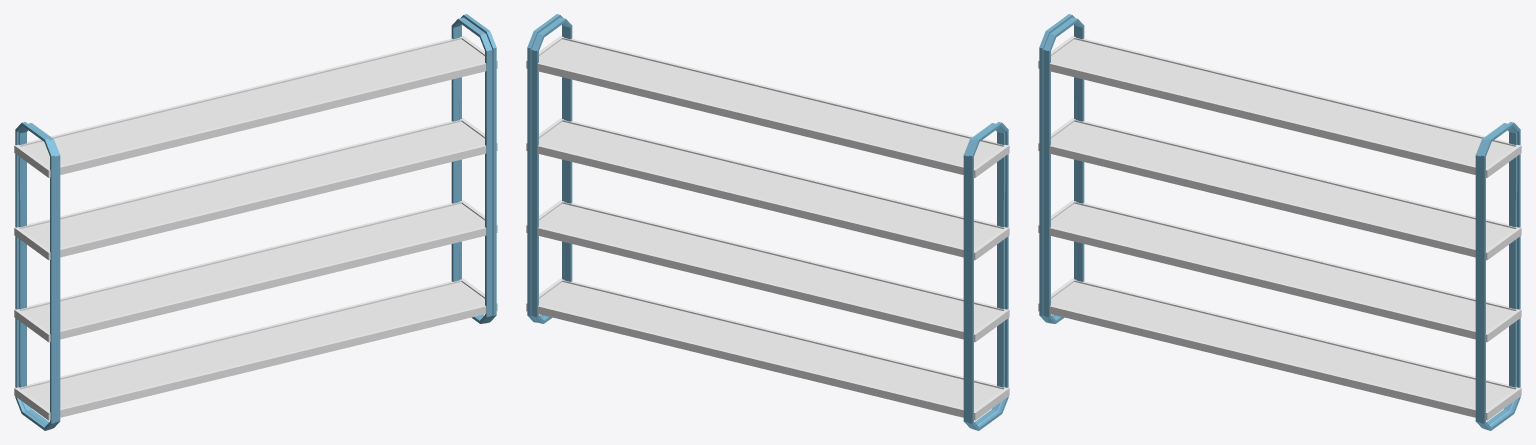
The model's file is Props_Shelf.002.fbx.
3 renders of one model, left to right at view 1: azimuth 30°, elevation 25°; view 2: azimuth 150°, elevation 25°; view 3: azimuth 330°, elevation 25°, orthographic.
Visible parts, largest first — view 1: Props_Shelf.002; view 2: Props_Shelf.002; view 3: Props_Shelf.002.
Boxes of the visible parts, box(x1,y1,x2,y2) form: Props_Shelf.002: box(14, 14, 497, 430); Props_Shelf.002: box(526, 14, 1009, 430); Props_Shelf.002: box(1038, 14, 1521, 430).
Bounding box in the file's own units: 4.05 × 2.51 × 0.5676.
